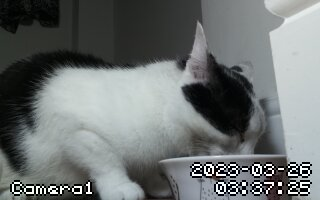bad: (9, 25, 270, 200)
